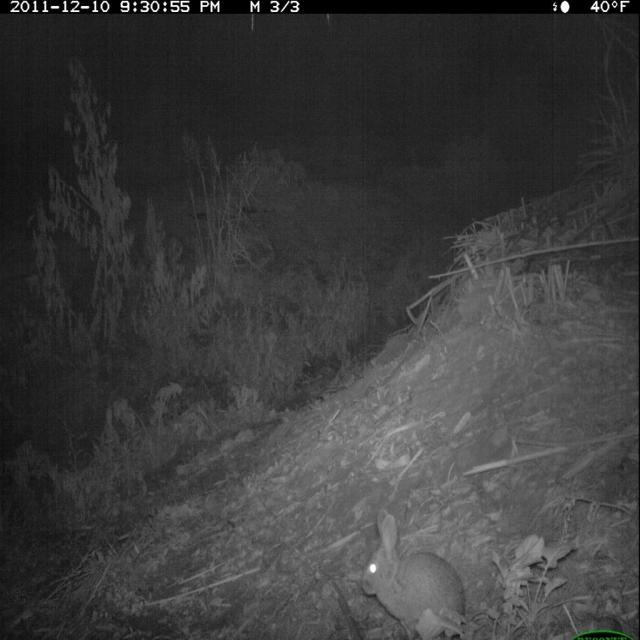rabbit: (356, 505, 469, 636)
